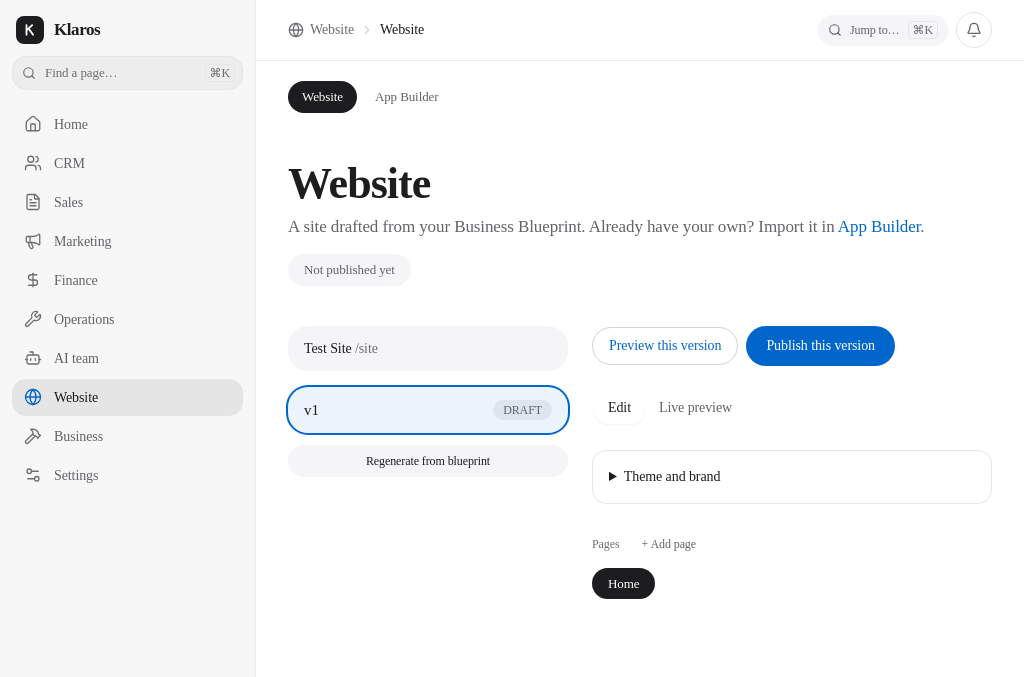
Test: Website Builder theme and brand › warns, without blocking, when the chosen colours would be hard to read
Click the heading "Theme and brand" at (672, 476), box top-left (624, 469), bottom-right (720, 484)
(page scrolled)
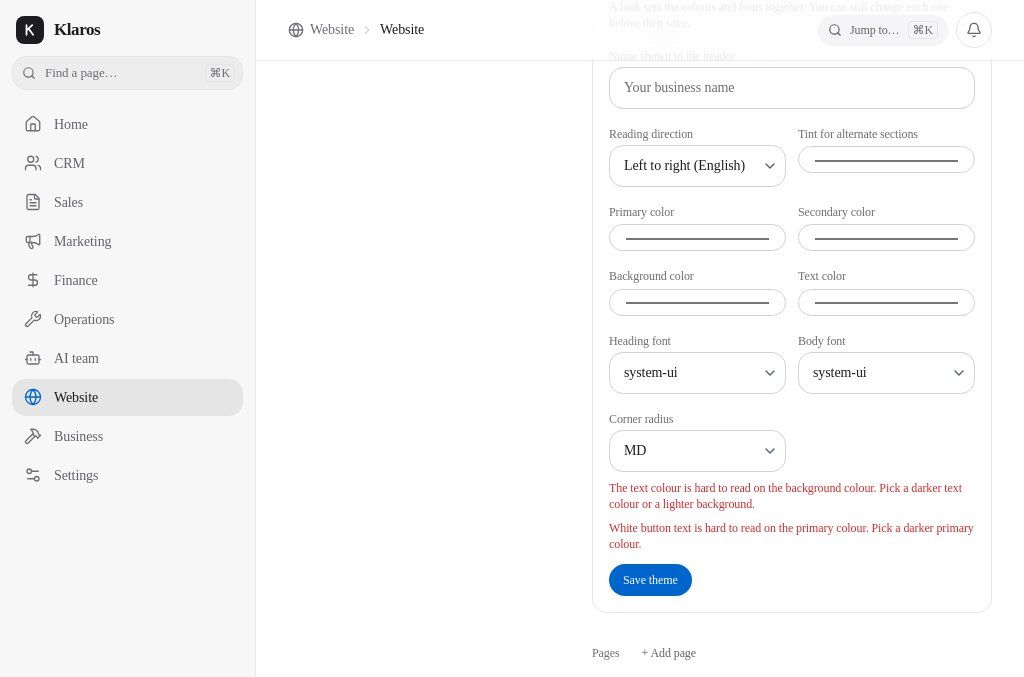
Expected: the text "text colour is hard to read" is shown, top-left (609, 481), bottom-right (962, 511)
Expected: the text "White button text is hard to read" is shown, top-left (609, 521), bottom-right (974, 551)
Expected: the button "Save theme" is enabled, top-left (609, 564), bottom-right (692, 596)
